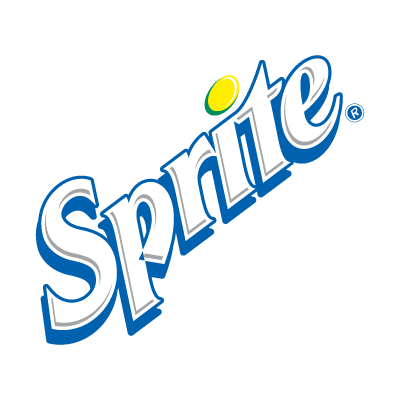sprite: (40, 56, 339, 329), (40, 56, 337, 329)
